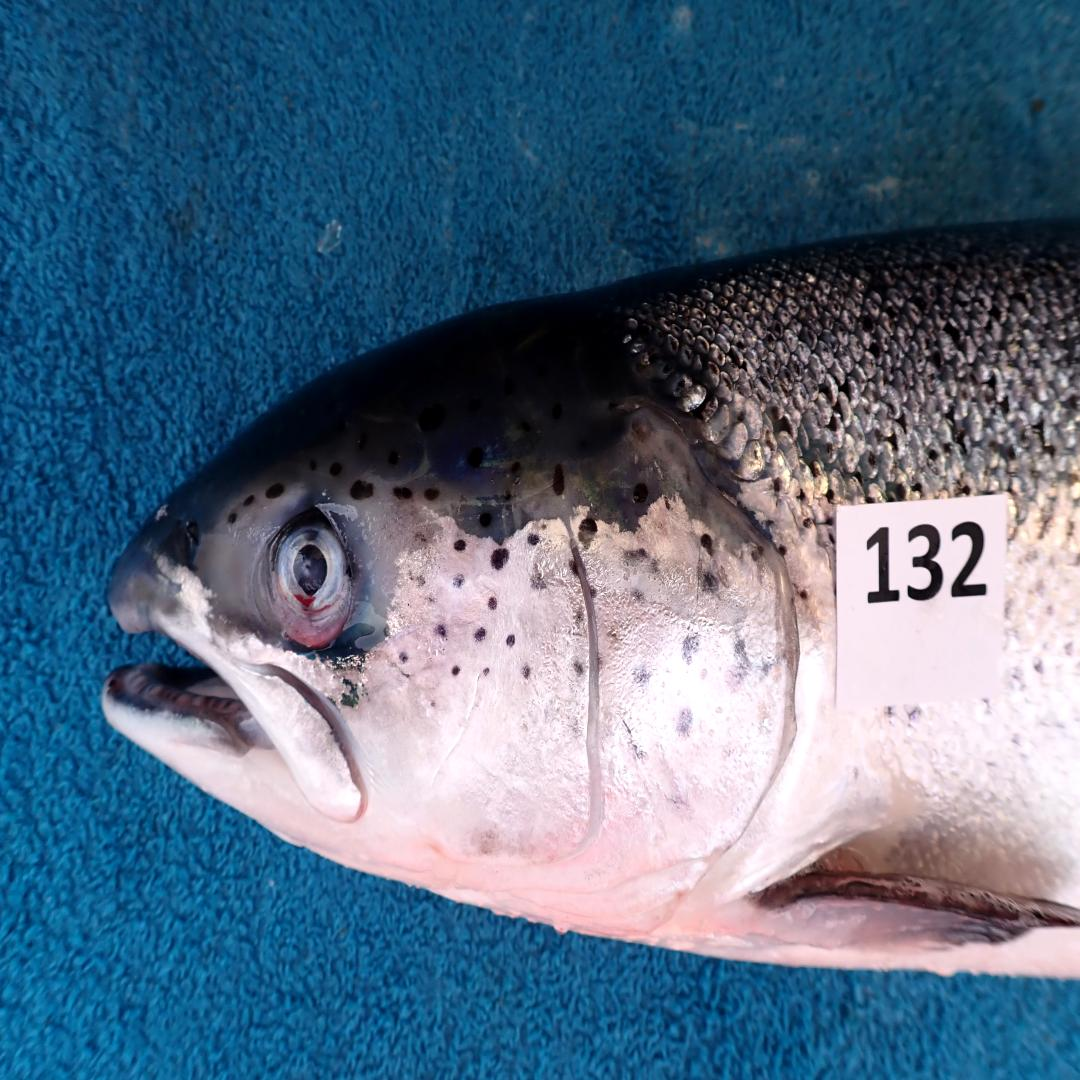roi: (355, 500, 795, 938)
